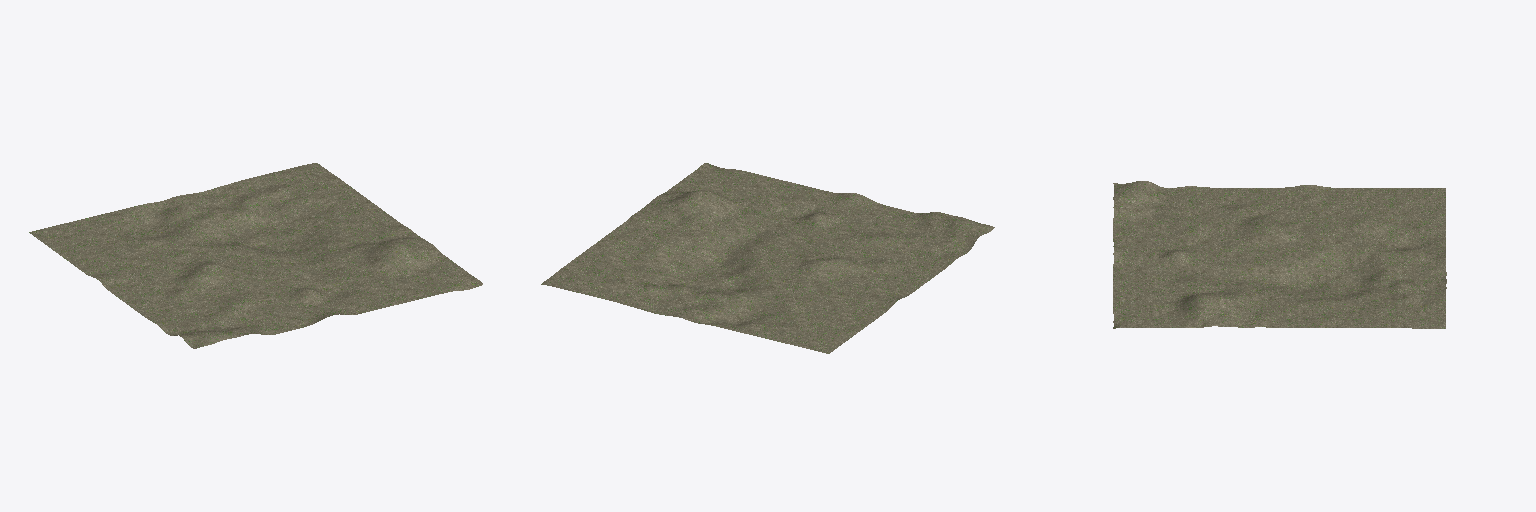
The picture shows the model from 3 angles: view 1: azimuth 30°, elevation 25°; view 2: azimuth 150°, elevation 25°; view 3: azimuth 270°, elevation 25°; orthographic projection.
Visible parts, largest first — view 1: Terrain; view 2: Terrain; view 3: Terrain.
Boxes of the visible parts, <box> form: Terrain: <box>29,163,482,348</box>; Terrain: <box>541,163,994,353</box>; Terrain: <box>1113,181,1446,328</box>.
Size of the model in its own units: 1024 by 77.01 by 1024.
1 materials, 1 textured.